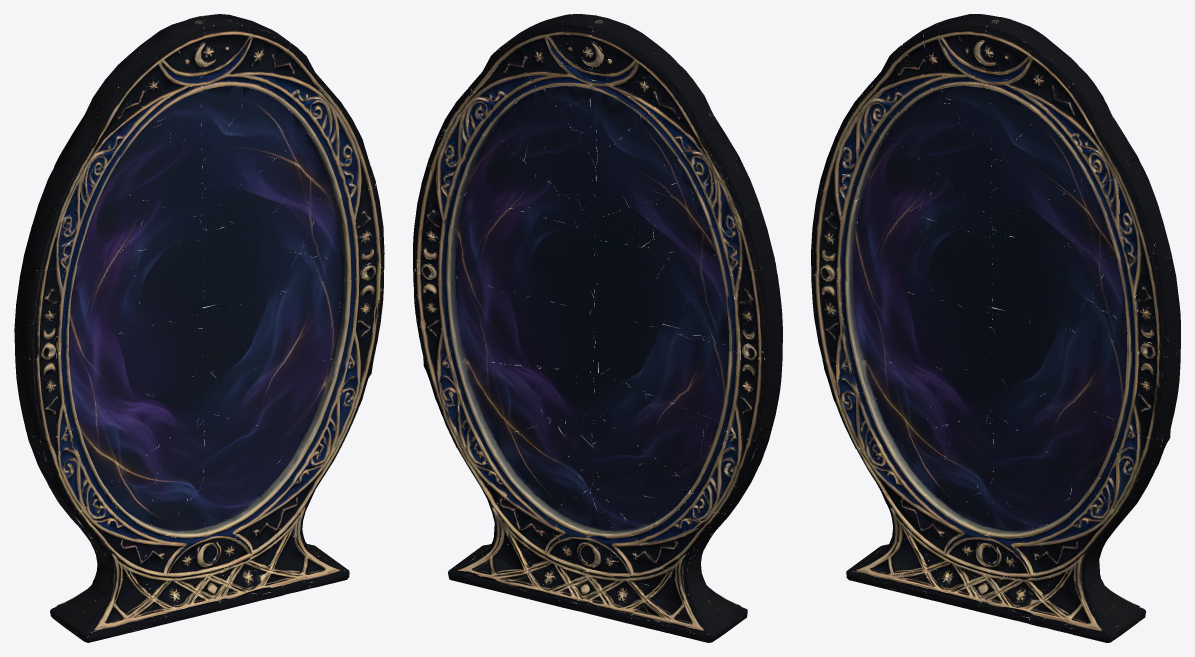
Rendered from espejo-de-los-suenos.glb.
3 renders of one model, left to right at view 1: azimuth 30°, elevation 25°; view 2: azimuth 150°, elevation 25°; view 3: azimuth 330°, elevation 25°, orthographic.
Visible parts, largest first — view 1: tripo_node_ad9b8b1c-4092-43c2-b56a-3b135484a4d8; view 2: tripo_node_ad9b8b1c-4092-43c2-b56a-3b135484a4d8; view 3: tripo_node_ad9b8b1c-4092-43c2-b56a-3b135484a4d8.
Boxes of the visible parts, x1=… form: tripo_node_ad9b8b1c-4092-43c2-b56a-3b135484a4d8: x1=14, y1=14, x2=384, y2=642; tripo_node_ad9b8b1c-4092-43c2-b56a-3b135484a4d8: x1=413, y1=14, x2=782, y2=642; tripo_node_ad9b8b1c-4092-43c2-b56a-3b135484a4d8: x1=811, y1=14, x2=1180, y2=642.
Bounding box in the file's own units: 0.6342 × 0.9804 × 0.1151.
Materials: 1 (1 with a texture image).
